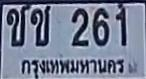1: (115, 6, 125, 46)
2: (72, 8, 88, 46)
6: (92, 7, 108, 45)
A10: (6, 5, 29, 46), (30, 5, 50, 46)
BKK: (19, 56, 126, 79)
